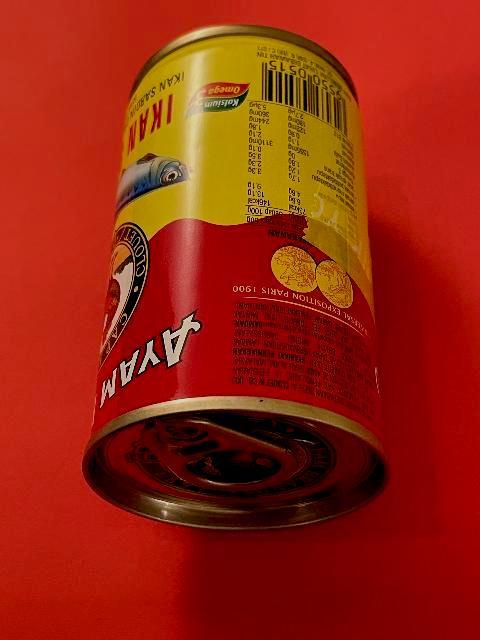foodcan: (80, 23, 394, 533)
